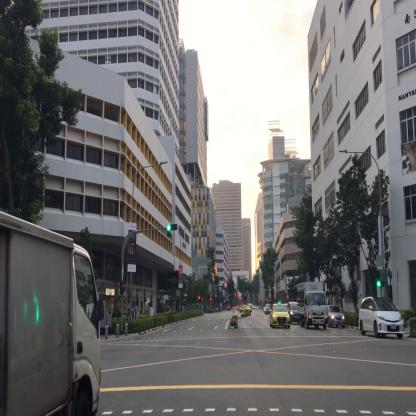green_traffic_light: (167, 224, 177, 230)
